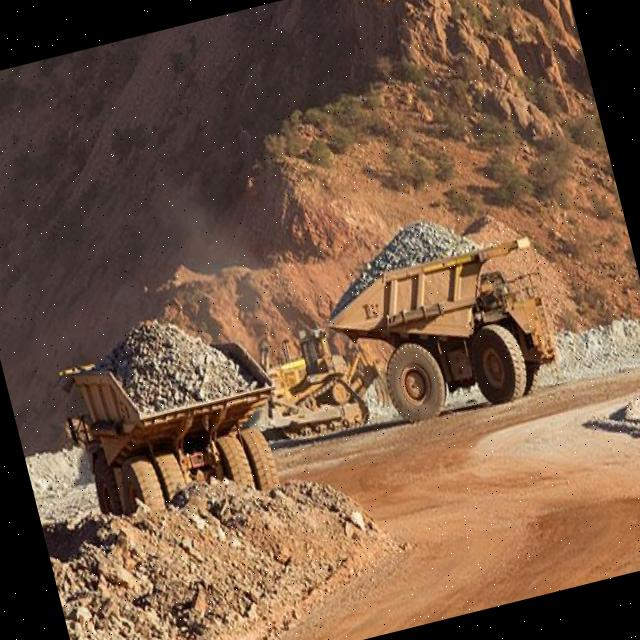Bulldozer: (239, 296, 402, 461)
Dump Truck: (303, 188, 576, 455), (48, 289, 314, 562)
